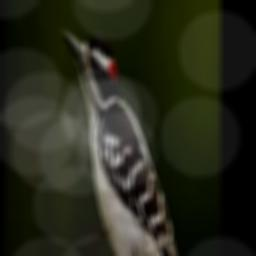Woodpecker: (62, 26, 190, 256)
